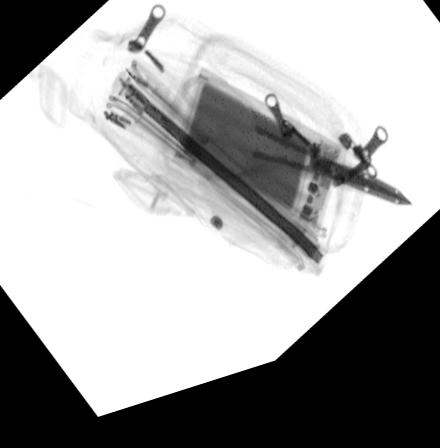Powerbank: (173, 81, 349, 258)
Scissors: (178, 83, 414, 233)
